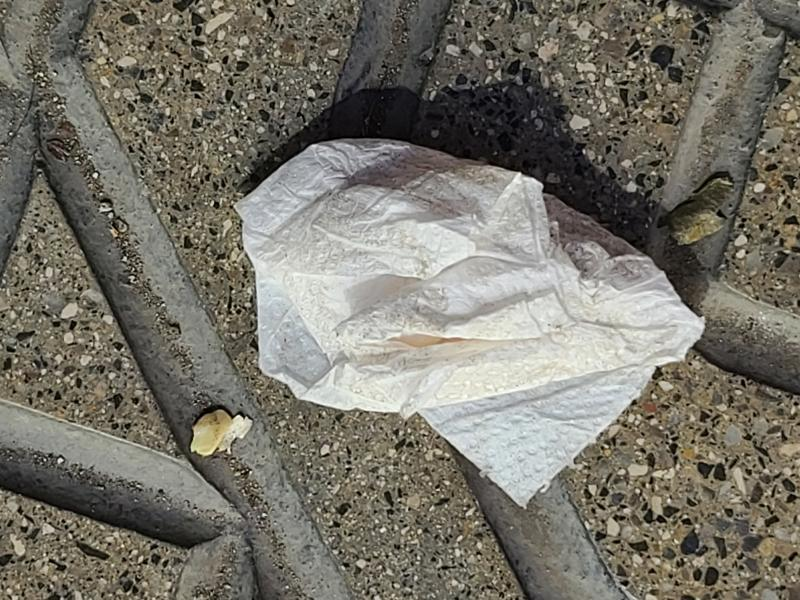papel: (236, 139, 704, 508)
